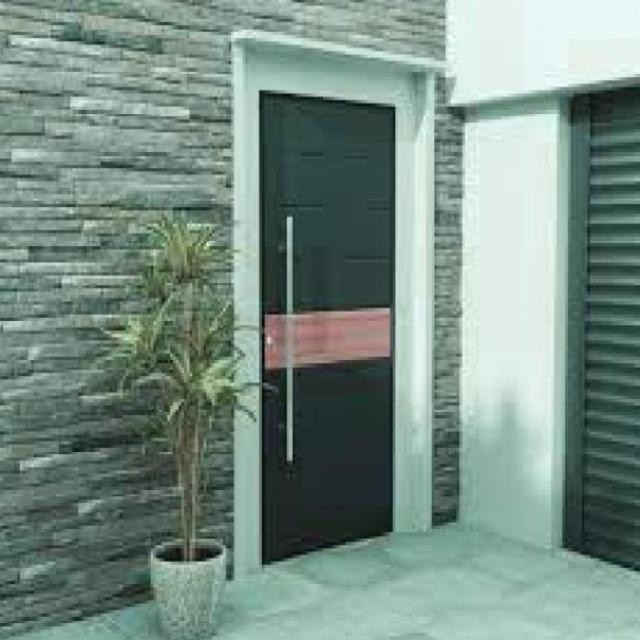Door: (258, 90, 395, 563)
